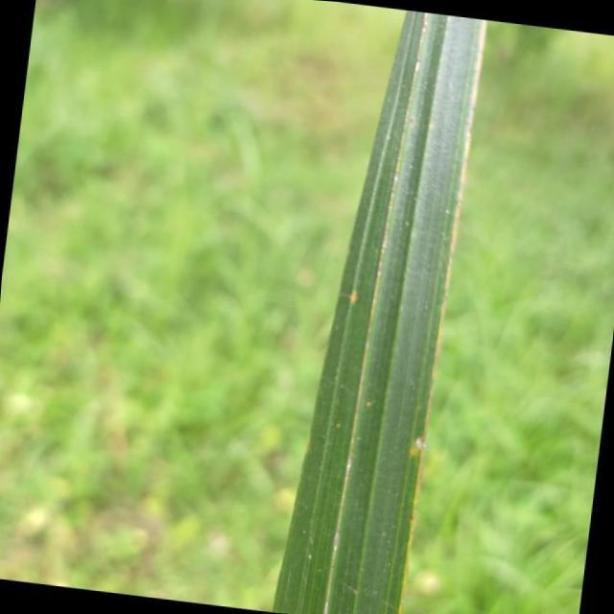Boron: (269, 7, 483, 614)
